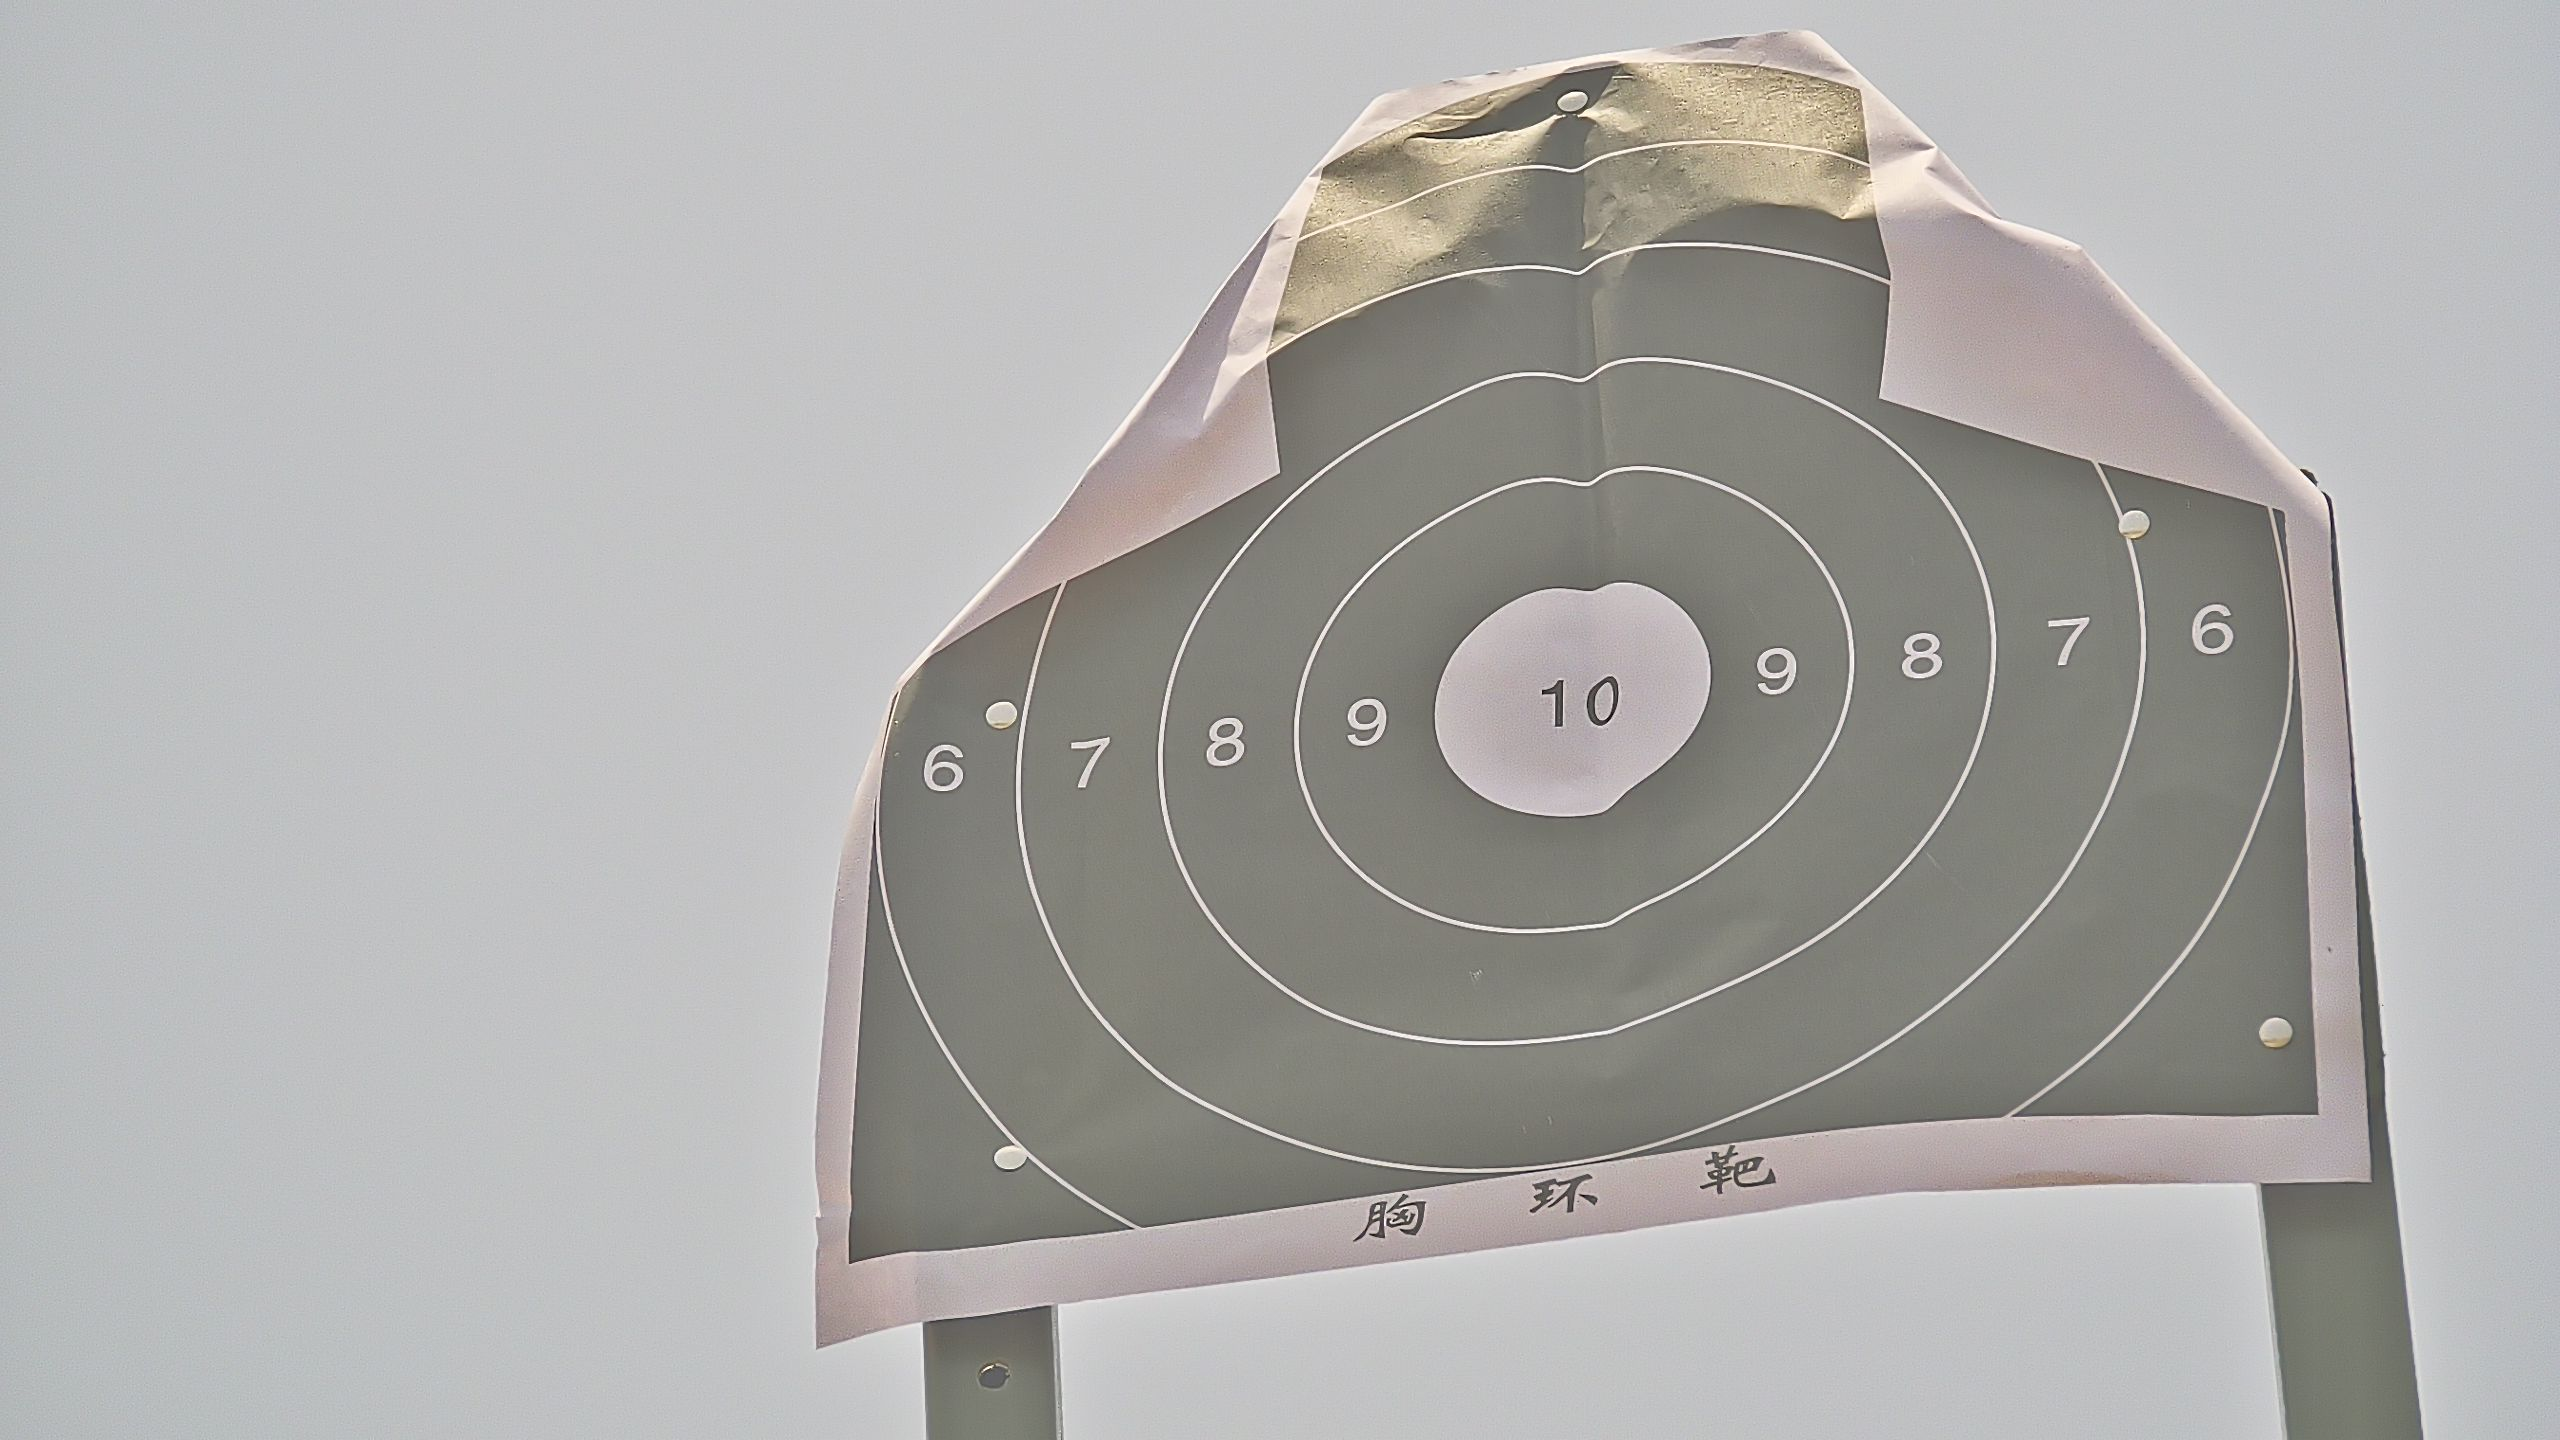kernel: (1572, 700, 1575, 707)
target: (837, 62, 2324, 1262)
ten: (1428, 585, 1713, 819)
